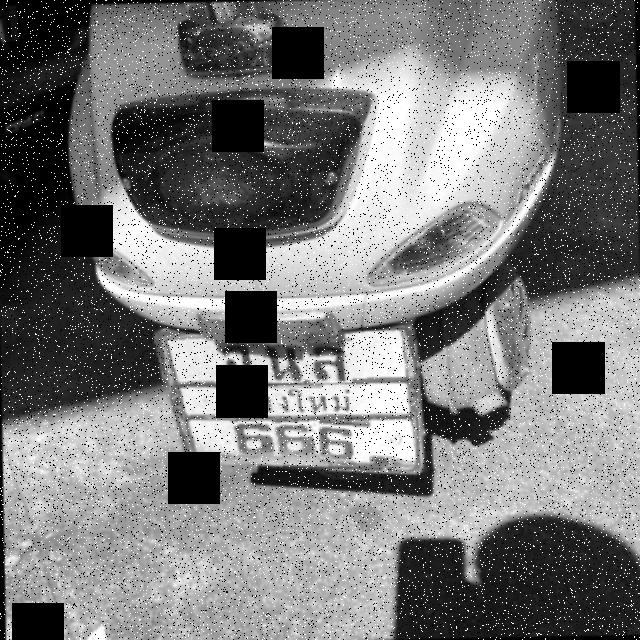letters: (318, 418, 371, 465), (261, 328, 303, 382), (308, 336, 353, 384), (230, 412, 266, 462), (272, 417, 310, 462), (214, 348, 254, 387)
license-plate: (161, 329, 416, 467)
province: (220, 386, 360, 418)
